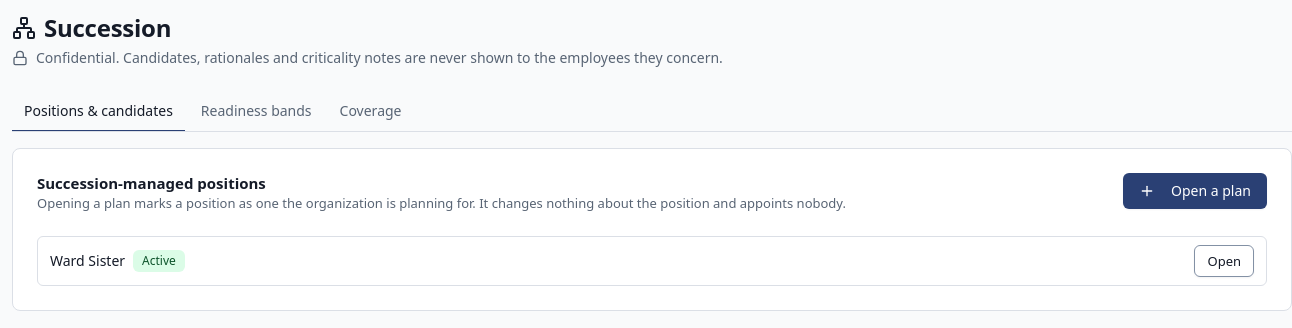
Test case: Succession workspace › reports coverage as counts, carrying no candidate identity or confidential note (§30.25)
Click the tab "Coverage": coordinates (371, 112) [328, 92, 414, 132]
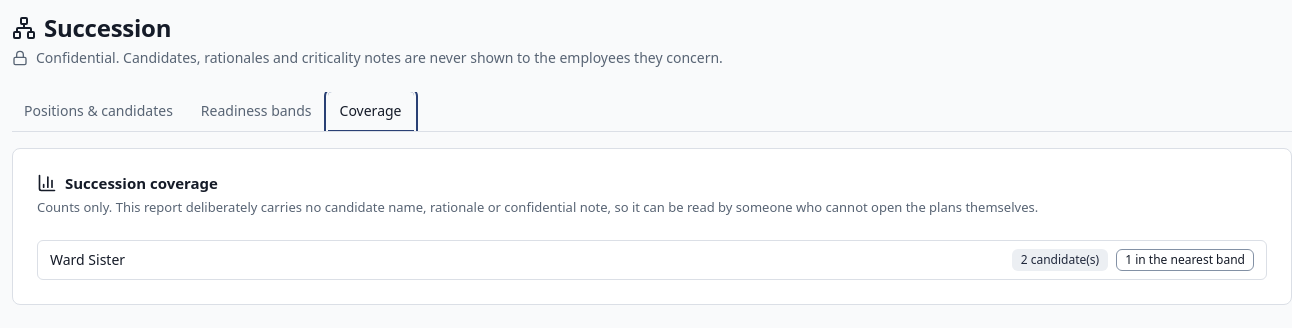
Check: the element with test id "row-coverage-30" shows "Ward Sister", box [50, 250, 125, 269]
Check: the element with test id "row-coverage-30" shows "2 candidate", box [37, 240, 1267, 280]
